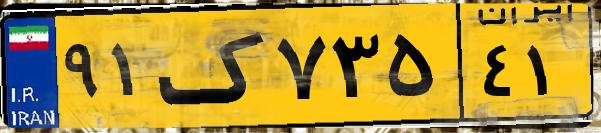1: (525, 38, 570, 115), (110, 28, 158, 98)
3: (330, 28, 385, 110)
4: (475, 38, 525, 113)
5: (385, 28, 445, 110)
7: (270, 28, 330, 110)
9: (57, 26, 110, 100)
ک: (158, 12, 270, 120)
